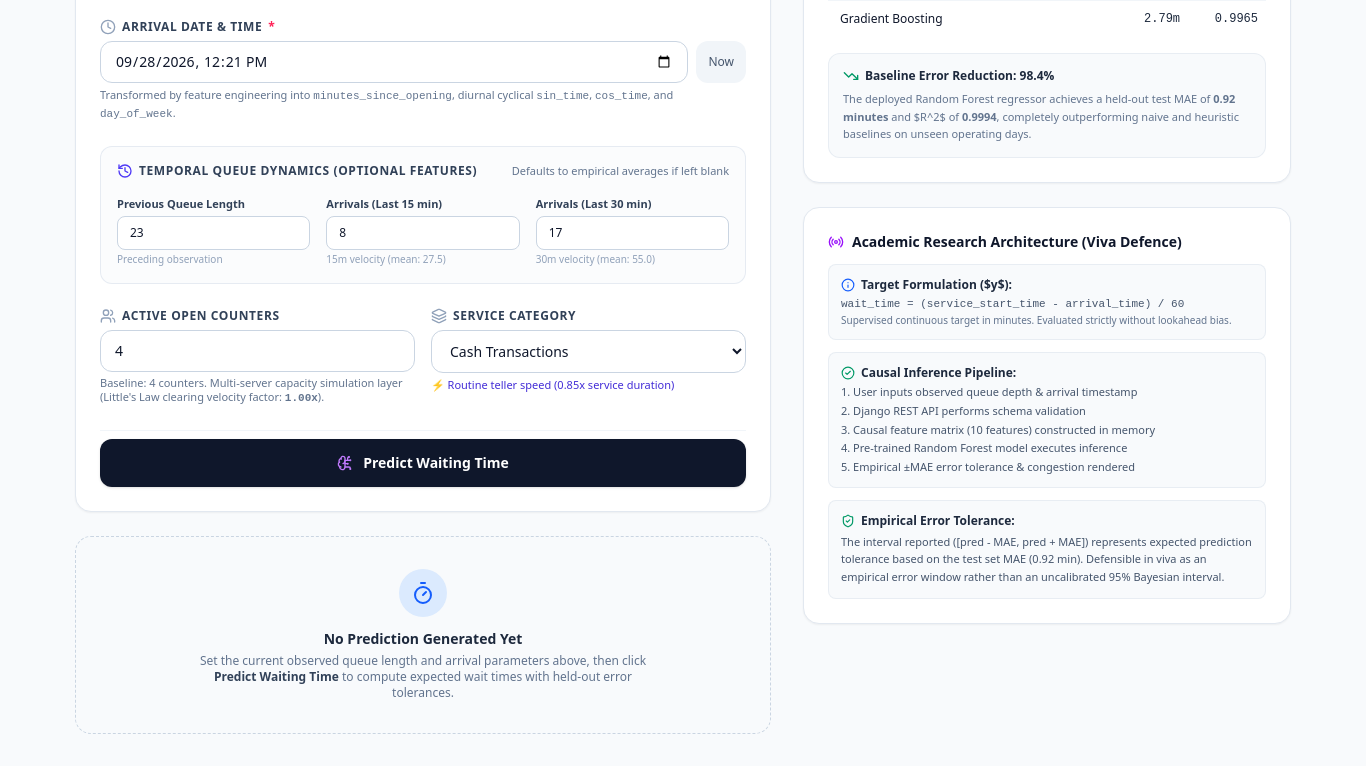
Test: Prediction Page Real-Time Integration & User Flow › 8. renders backend HTTP 400 validation error without crashing
(page scrolled)
Click the button "Predict Waiting Time". click: (423, 462)
box: [100, 438, 746, 486]
(page scrolled)
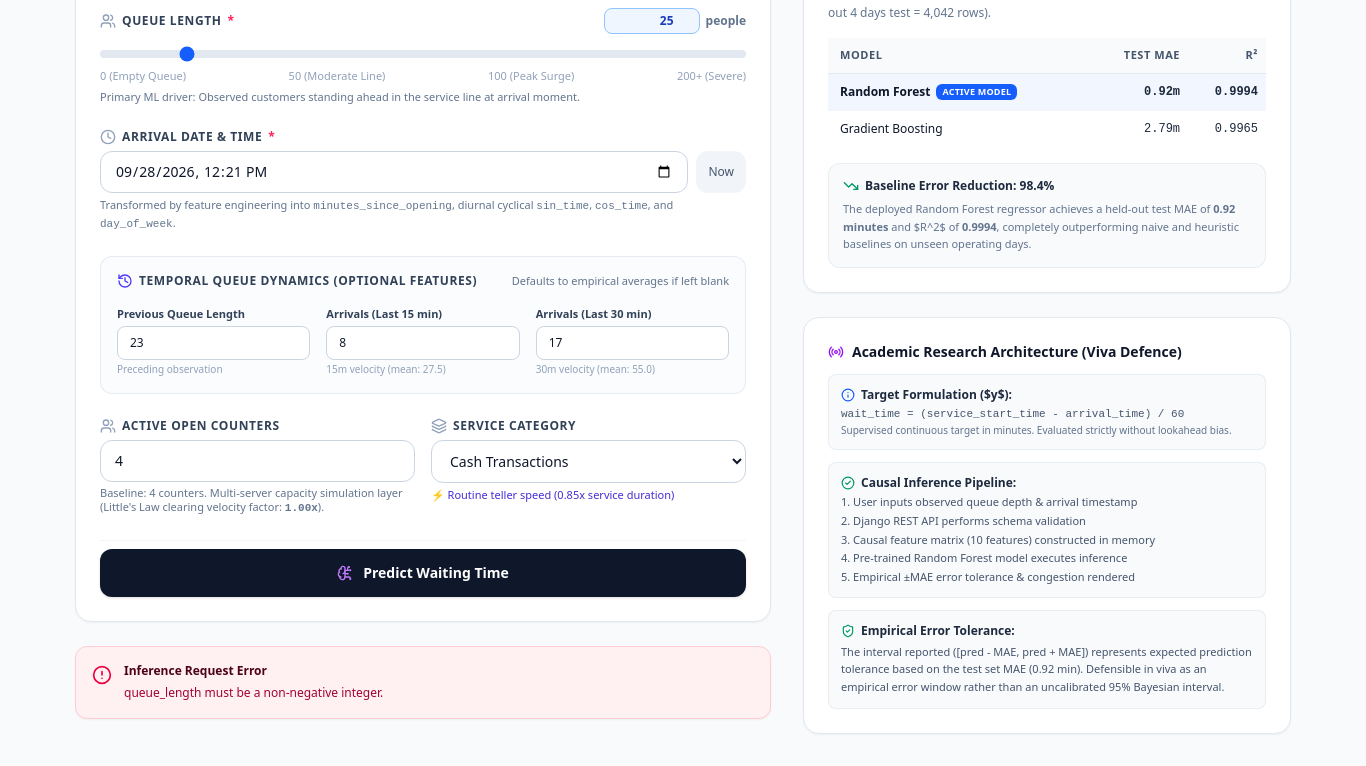
Expected: the message "Inference Request Error queue_length must be a non-negative integer." is shown, [75, 646, 771, 719]
Expected: the text "queue_length must be a non-negative integer." is shown, [124, 684, 383, 700]
